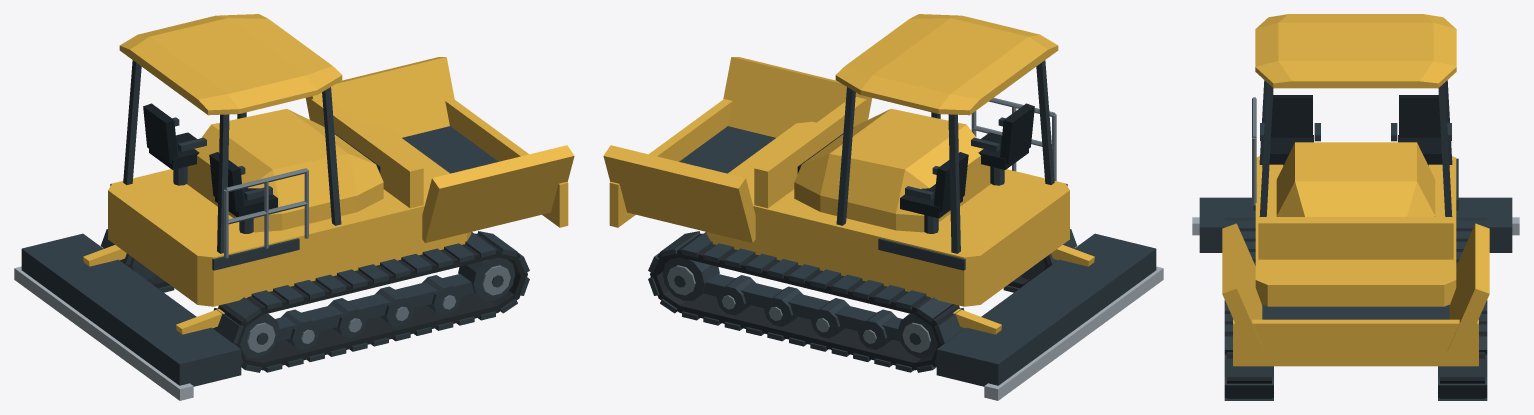
Rendered from b07_tracked_asphalt_paver.glb.
3 views of the same model, side by side, from view 1: azimuth 30°, elevation 25°; view 2: azimuth 150°, elevation 25°; view 3: azimuth 270°, elevation 25° (orthographic).
Visible parts, largest first — view 1: b07_tracked_asphalt_paver; view 2: b07_tracked_asphalt_paver; view 3: b07_tracked_asphalt_paver.
Boxes of the visible parts, <box> form: b07_tracked_asphalt_paver: <box>14,14,574,400</box>; b07_tracked_asphalt_paver: <box>603,14,1163,400</box>; b07_tracked_asphalt_paver: <box>1192,14,1519,400</box>.
Bounding box in the file's own units: 4.79 × 2.92 × 3.35.
